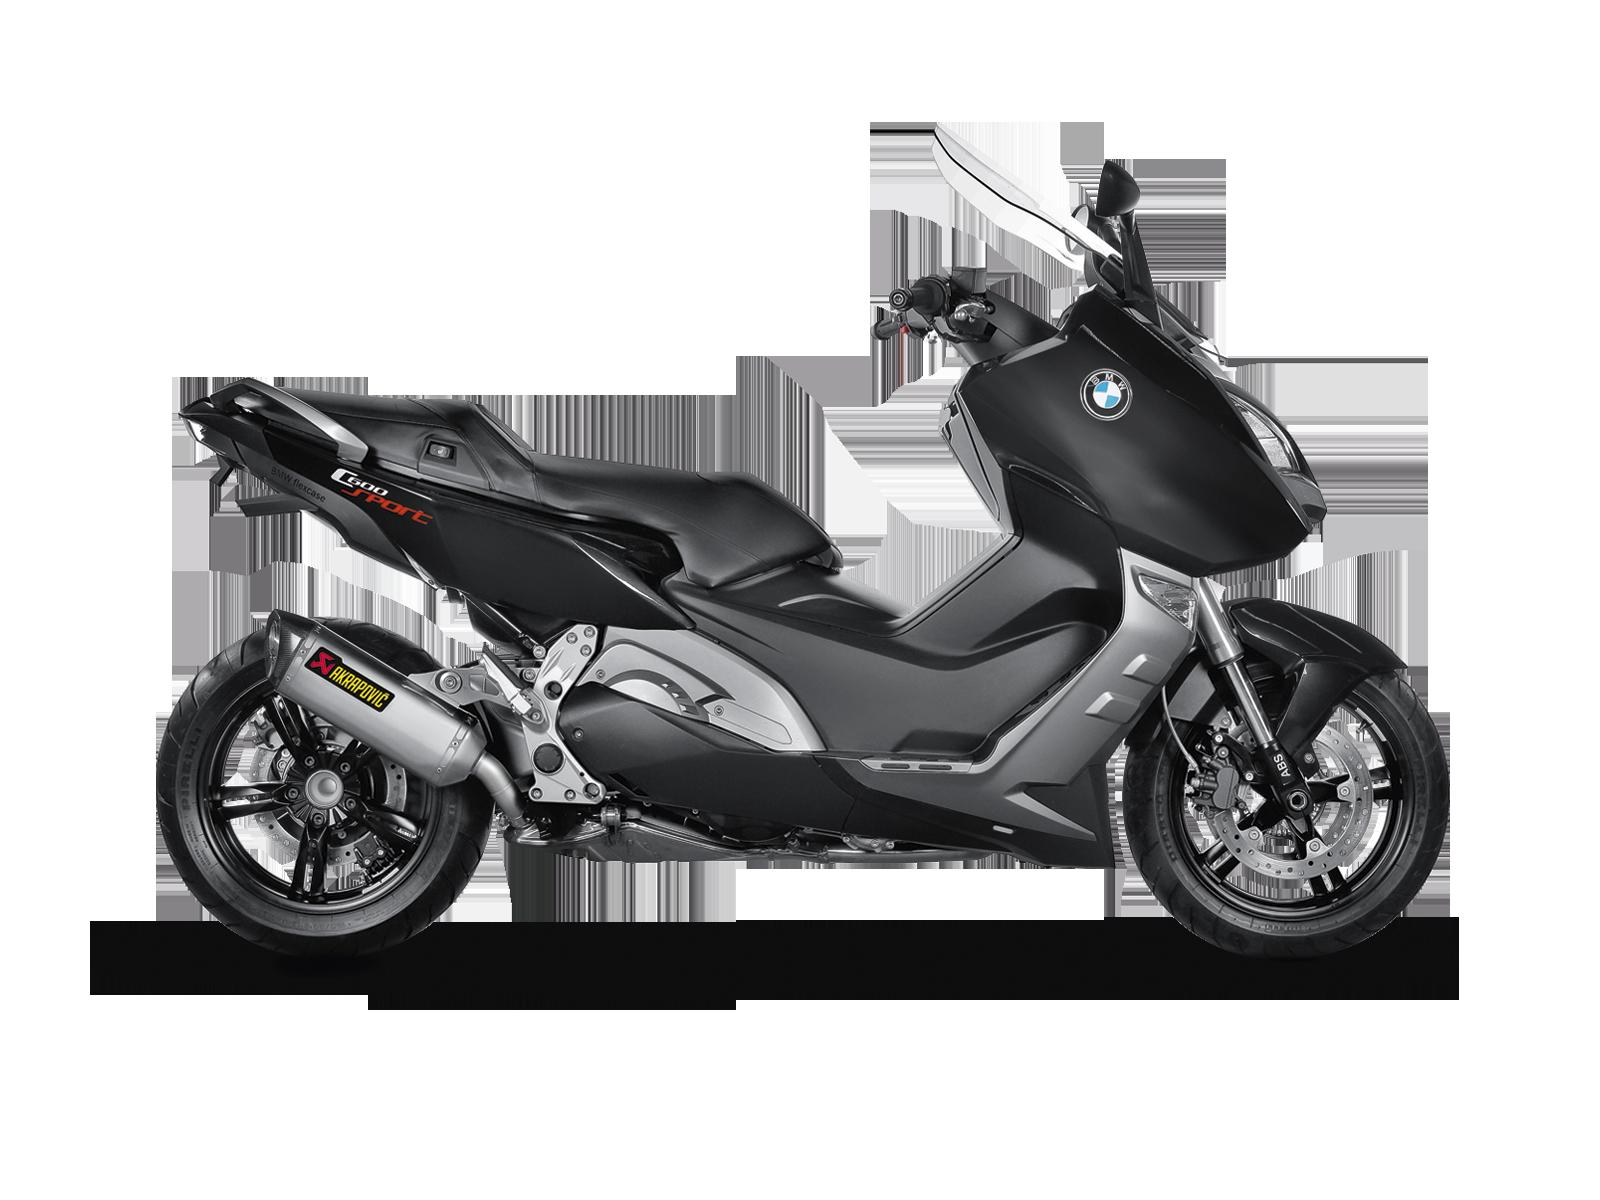engine-chasis: (520, 473, 1124, 870)
exhaust: (263, 608, 997, 863)
frontside: (835, 122, 1409, 842)
handlebar: (869, 265, 1077, 368), (1071, 160, 1165, 332)
motorbike: (156, 124, 1451, 958)
rearside: (178, 377, 697, 779)
seat: (275, 387, 833, 590)
tank: (708, 372, 1023, 638)
wheel: (155, 626, 494, 963), (1123, 664, 1450, 961), (301, 614, 446, 676), (1160, 684, 1201, 778)
